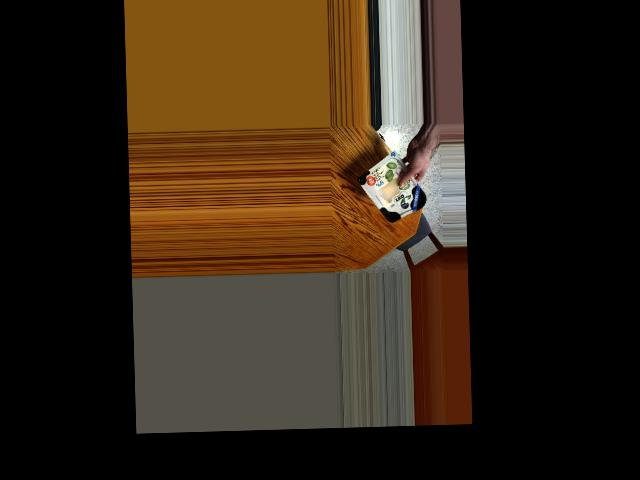cheese: (361, 161, 431, 220)
